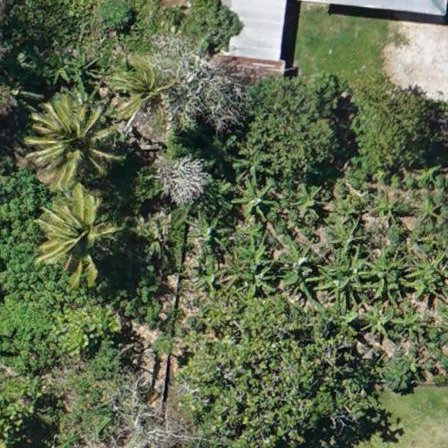palm_tree: (31, 95, 114, 184), (30, 187, 111, 274), (3, 446, 24, 448)
